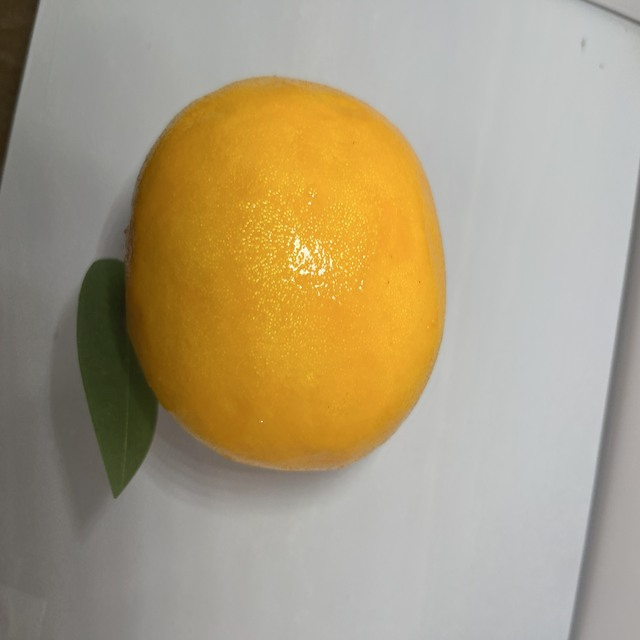Cam vang: (112, 67, 453, 481)
